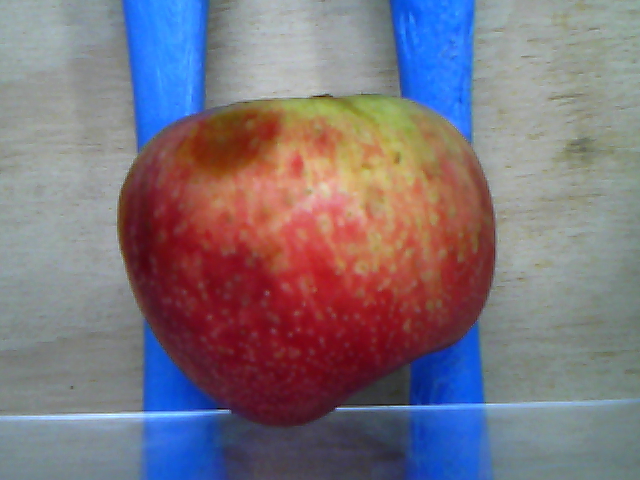bruise: (190, 113, 284, 175)
